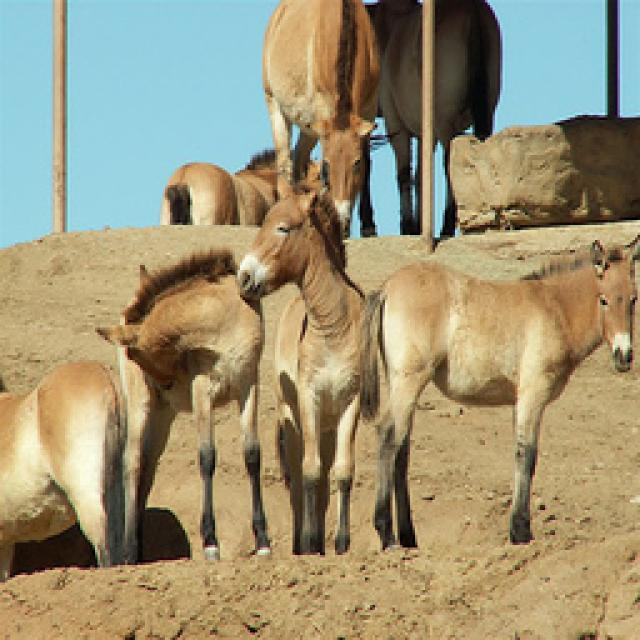not_pig: (368, 228, 640, 558), (237, 173, 369, 560), (120, 248, 272, 567), (346, 0, 507, 237), (238, 0, 383, 247), (0, 356, 129, 591), (148, 150, 324, 232)
